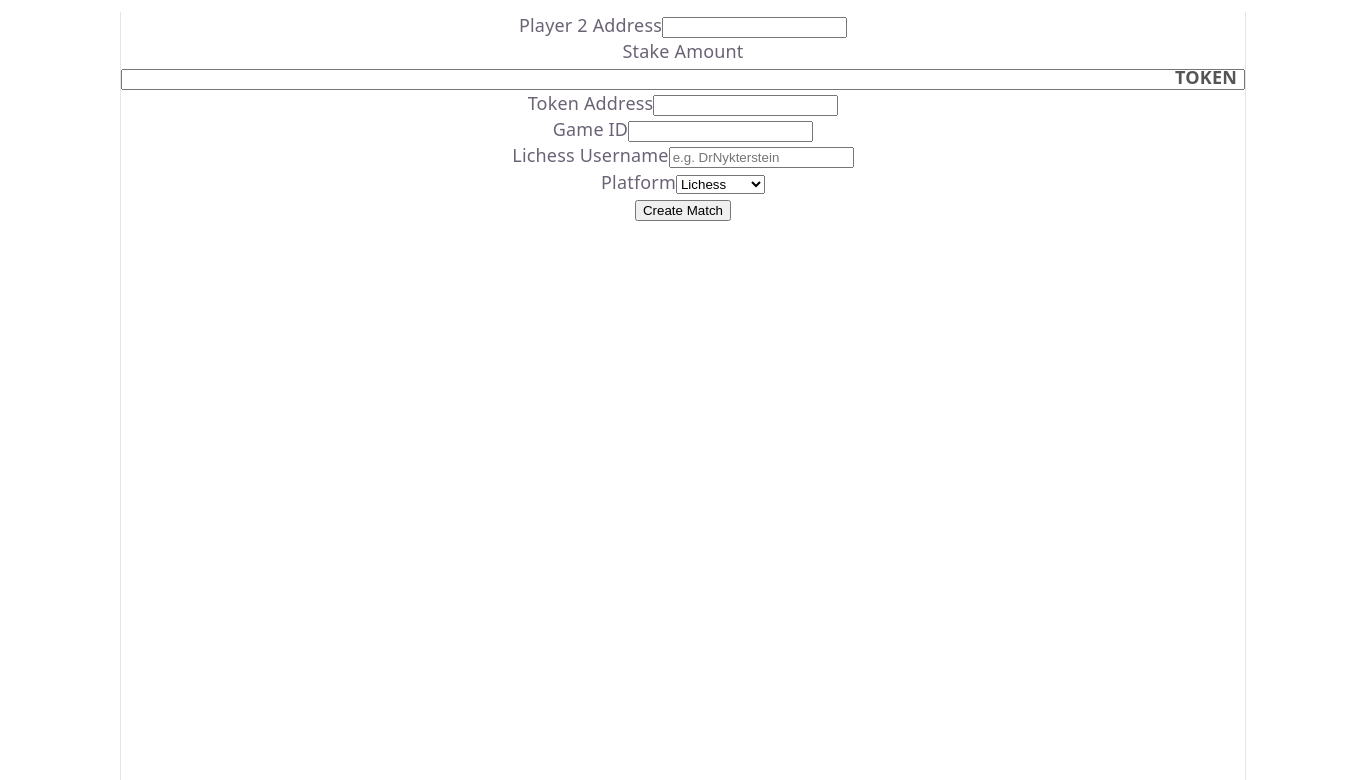
Test case: CreateMatchForm › shows error for invalid lichess game ID and blocks submit
Type "GBOB" into the field labelled "Player 2 Address" at (754, 28), box [662, 17, 847, 38]
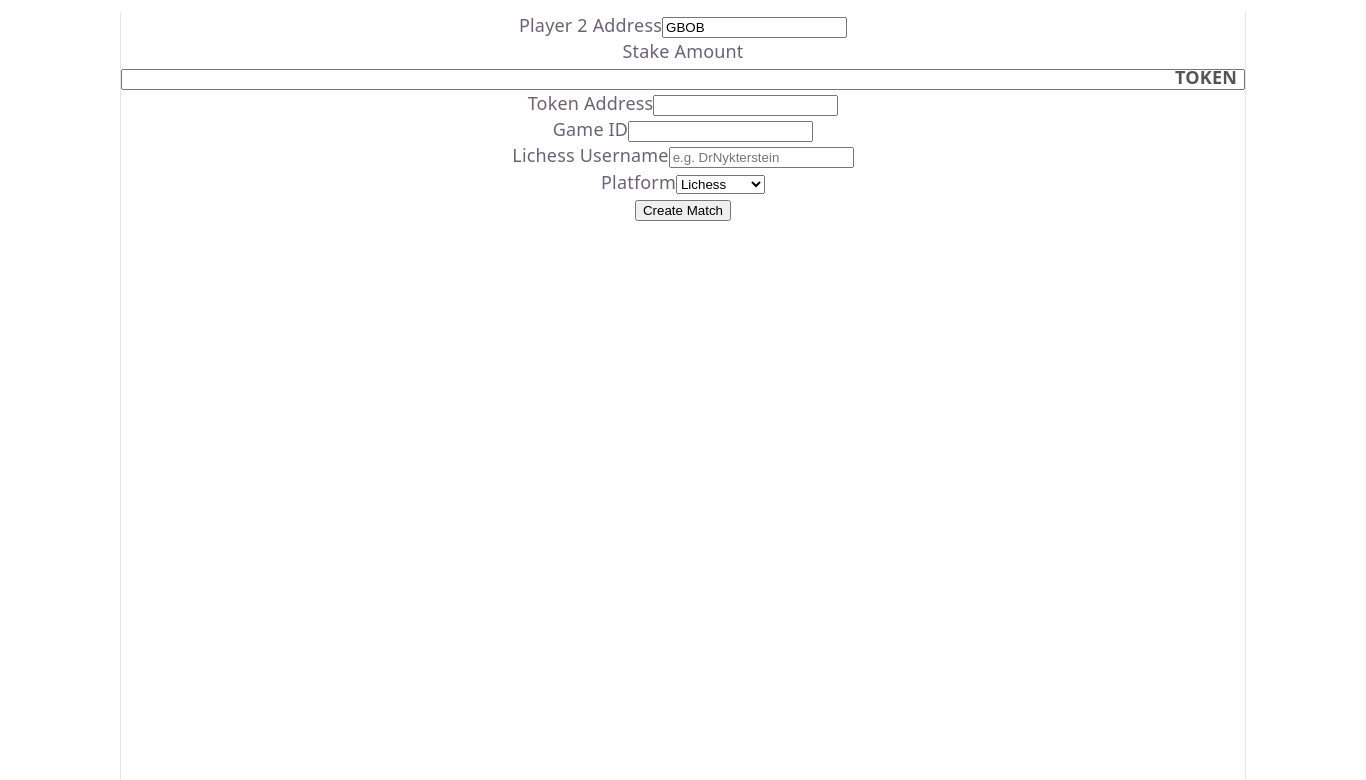
Type "10" into the field labelled "Stake Amount" at (683, 80), box [121, 69, 1245, 90]
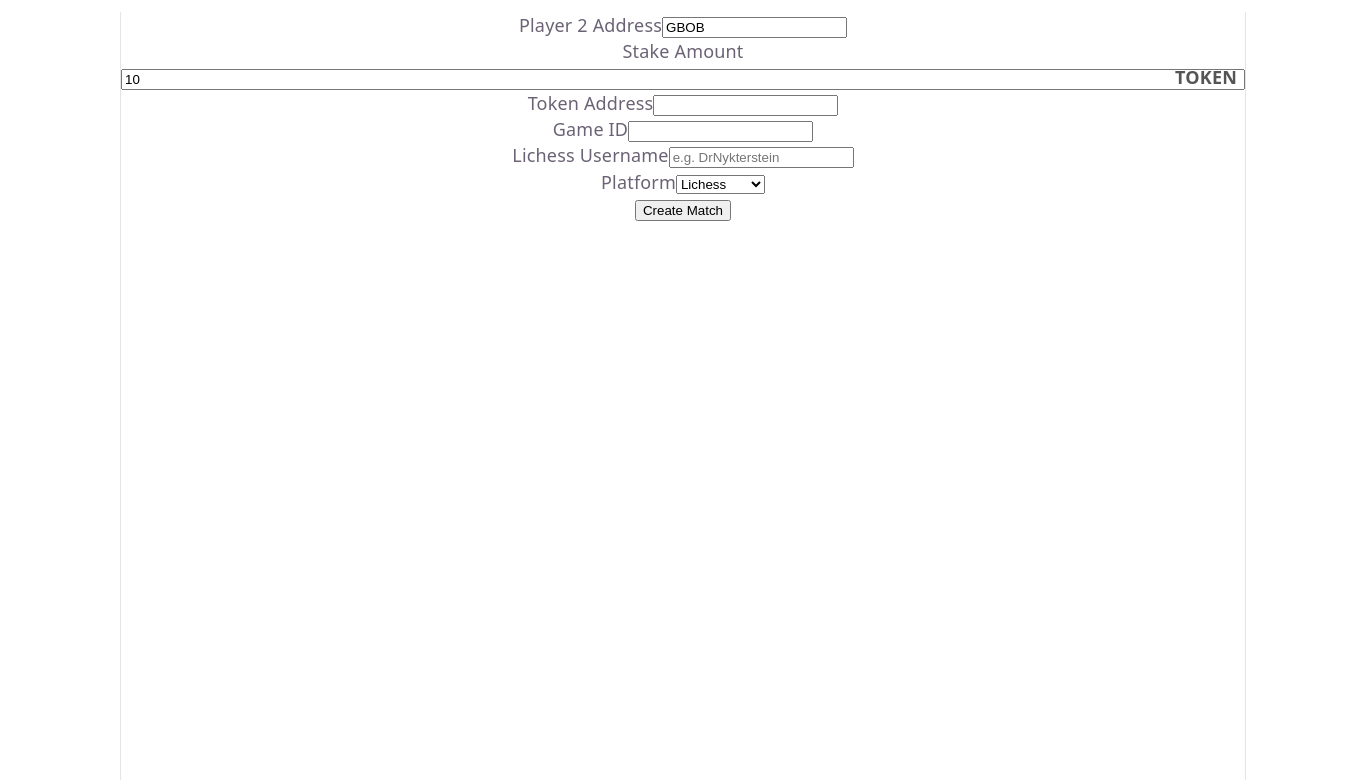
Type "GTOK" into the field labelled "Token Address" at (746, 106), box [653, 95, 838, 116]
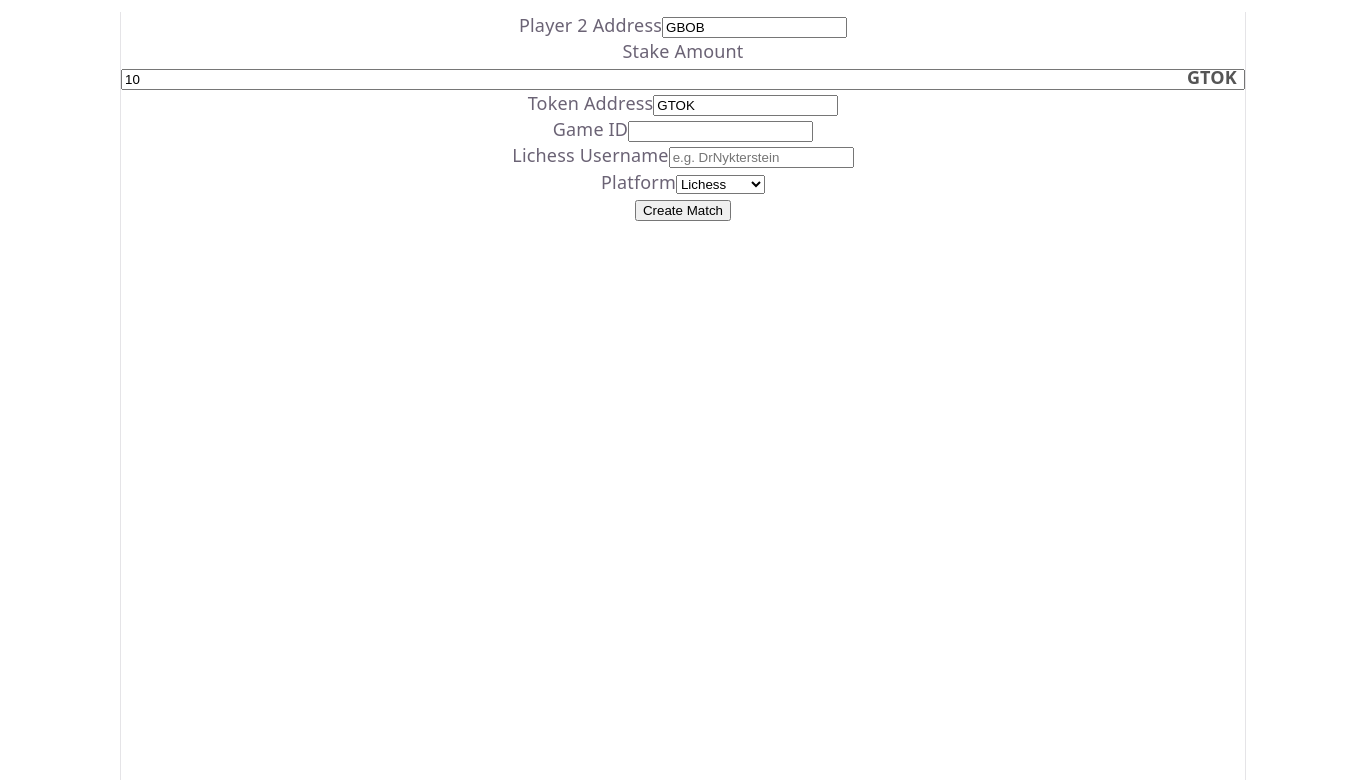
Type "abc12" into the field labelled "Game ID" at (721, 132), box [628, 121, 813, 142]
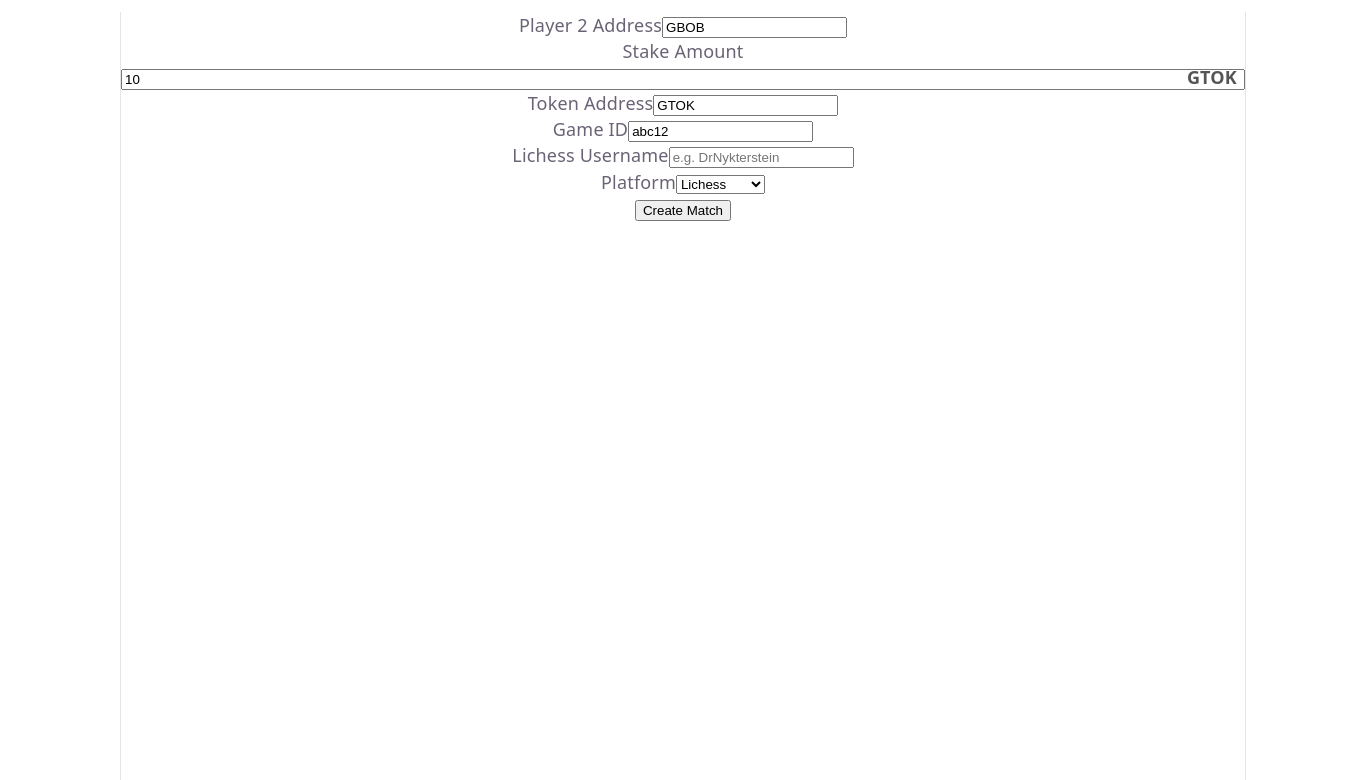
Click the button "Create Match" at (683, 210), box [635, 200, 731, 221]
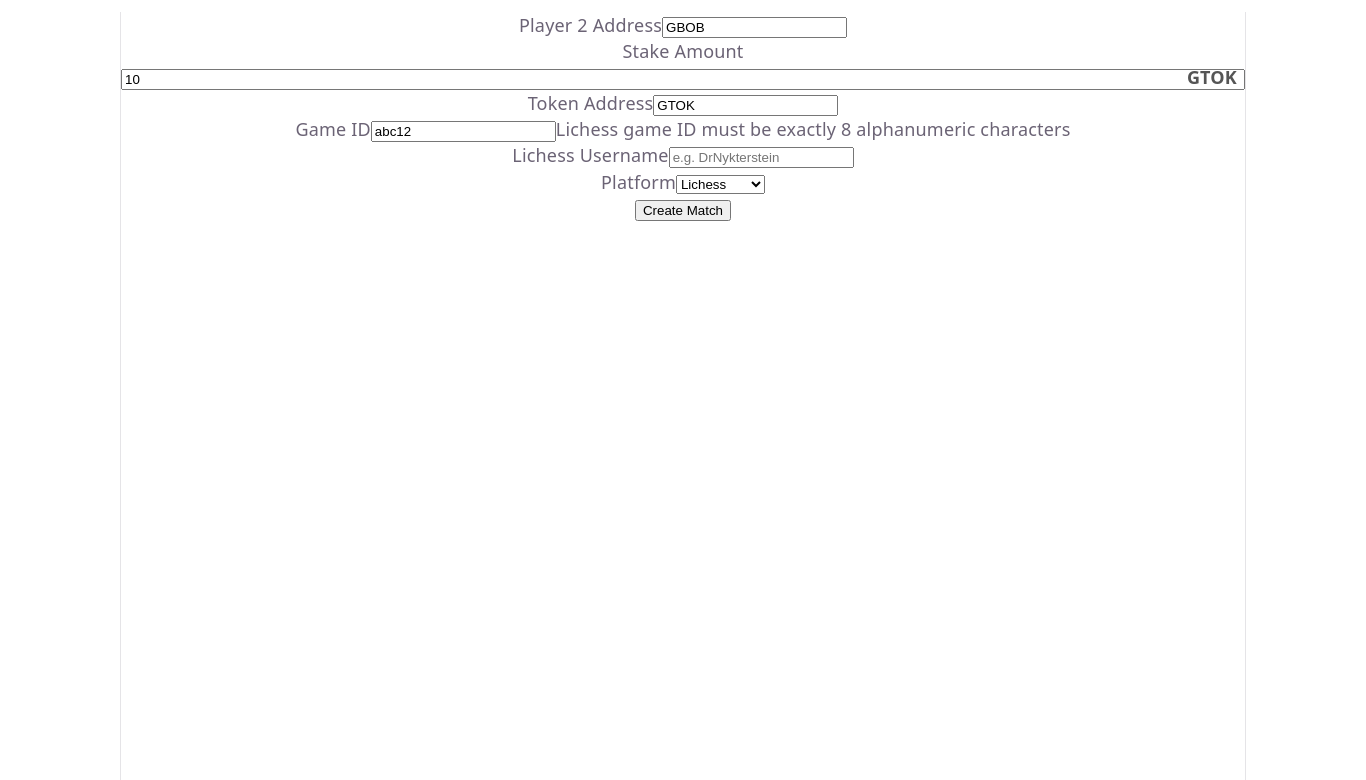
expect the text "Lichess game ID must be exactly 8 alphanumeric characters" is shown: met, box [556, 117, 1071, 141]
